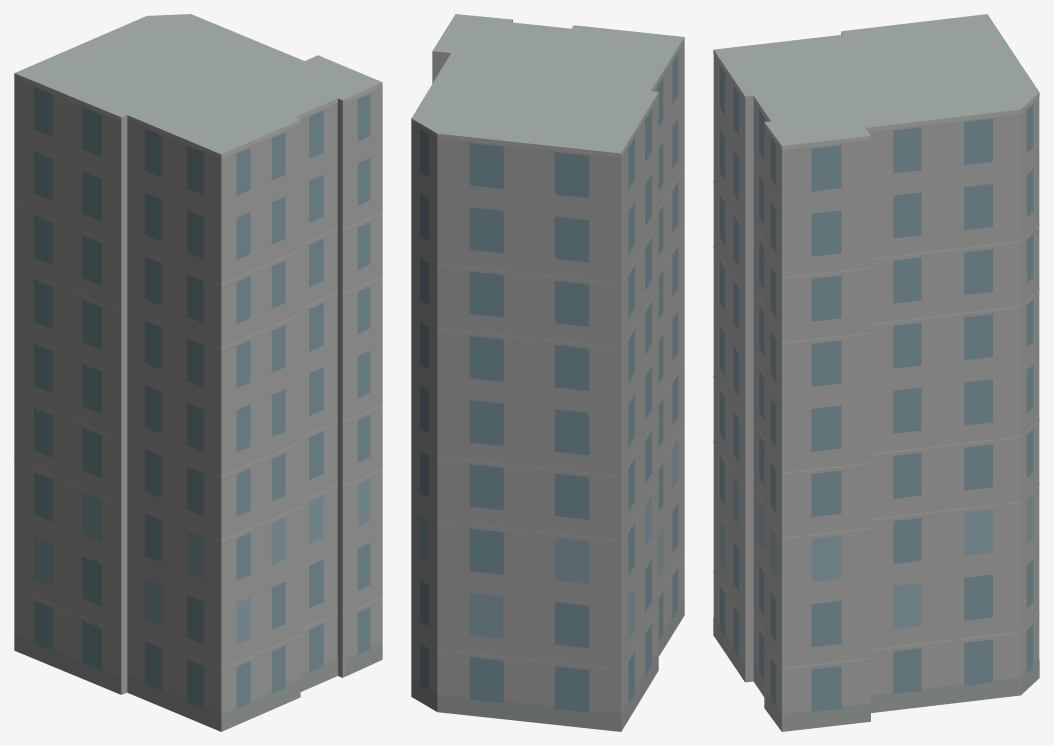
File: survey-upis-32667951.glb
The picture shows the model from 3 angles, left to right: view 1: azimuth 30°, elevation 25°; view 2: azimuth 150°, elevation 25°; view 3: azimuth 270°, elevation 25°; orthographic projection.
Visible parts, largest first — view 1: survey-upis-32667951.tmp; view 2: survey-upis-32667951.tmp; view 3: survey-upis-32667951.tmp.
Boxes of the visible parts, box(x1,y1,x2,y2) form: survey-upis-32667951.tmp: box(14, 14, 382, 731); survey-upis-32667951.tmp: box(411, 14, 684, 731); survey-upis-32667951.tmp: box(713, 14, 1039, 731).
Bounding box in the file's own units: 15.83 × 32.7 × 16.51.
